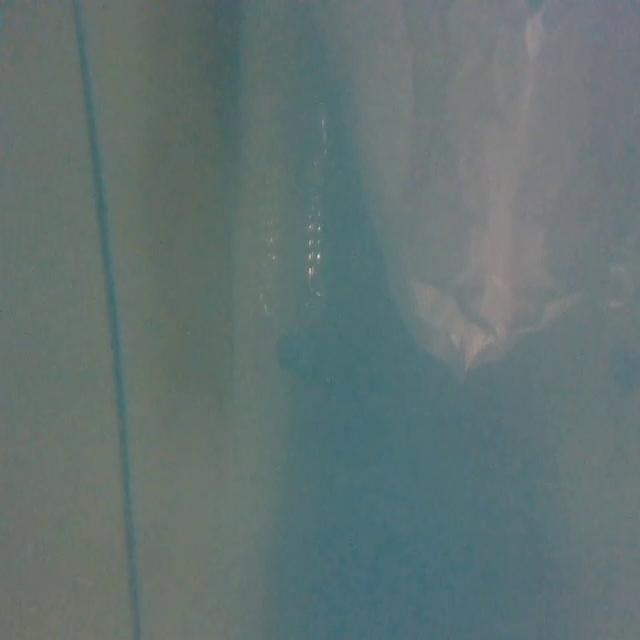plastic bags: (351, 0, 640, 372)
plastic bottle: (253, 78, 344, 405)
